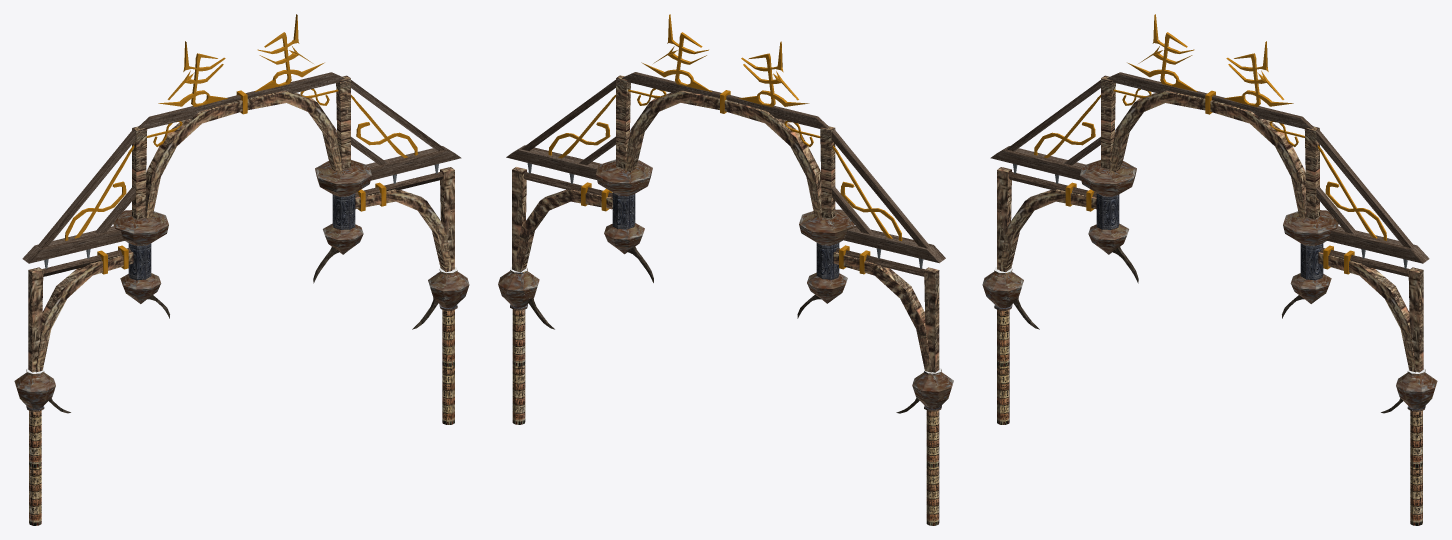
Rendered from HallwayArch.fbx.
3 renders of one model, left to right at view 1: azimuth 30°, elevation 25°; view 2: azimuth 150°, elevation 25°; view 3: azimuth 330°, elevation 25°, orthographic.
Visible parts, largest first — view 1: Mesh1; view 2: Mesh1; view 3: Mesh1.
Part boxes in pixels (<box>): Mesh1: <box>14,14,469,525</box>; Mesh1: <box>498,14,953,525</box>; Mesh1: <box>982,14,1437,525</box>.
Bounding box in the file's own units: 101 × 95.2 × 11.7.
